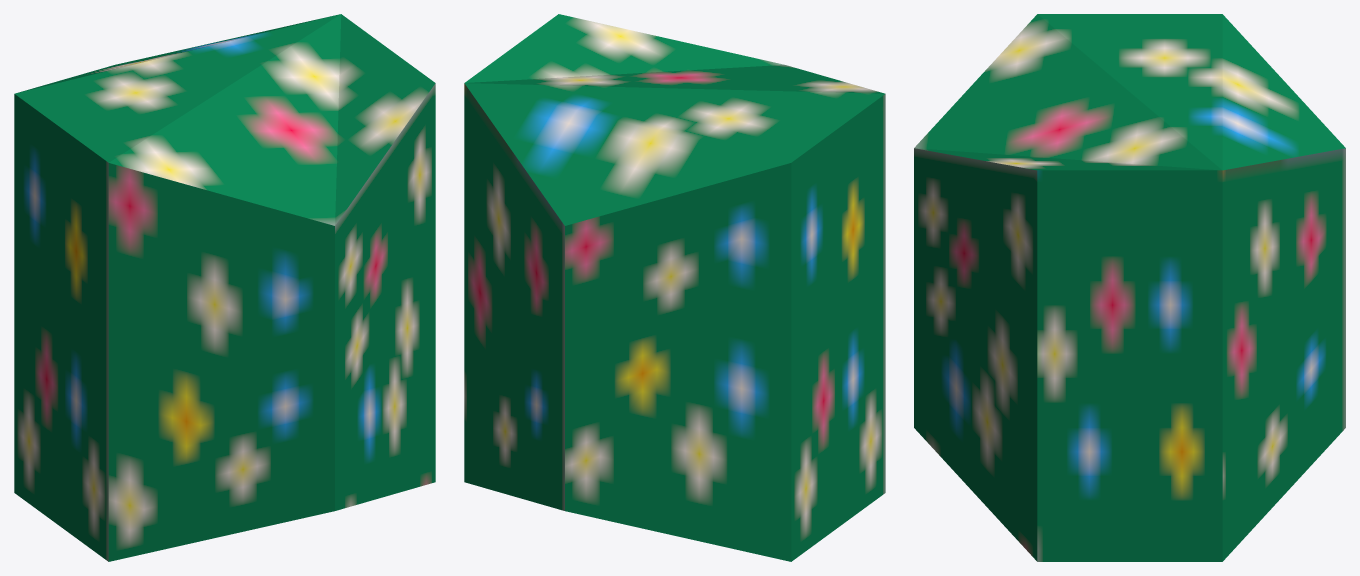
Rendered from garden-1.gltf.
The picture shows the model from 3 angles, left to right: view 1: azimuth 30°, elevation 25°; view 2: azimuth 150°, elevation 25°; view 3: azimuth 270°, elevation 25°; orthographic projection.
Bounding box in the file's own units: 1.5 × 1.75 × 1.75.
Materials: 1 (1 with a texture image).
